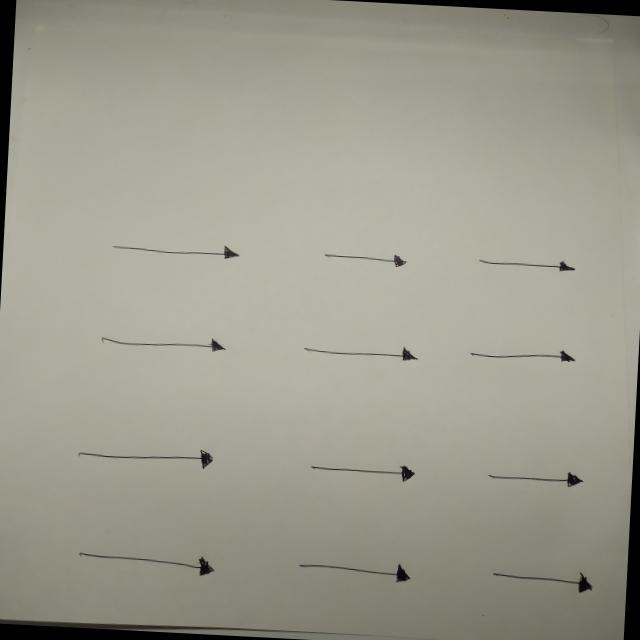arrow_line_right: (96, 220, 260, 276), (65, 535, 236, 588), (283, 538, 430, 592), (72, 434, 226, 474), (484, 552, 602, 600), (288, 330, 428, 370), (293, 450, 427, 490), (88, 322, 234, 358), (462, 248, 593, 284), (458, 336, 588, 372), (308, 244, 422, 278), (482, 466, 592, 496)
